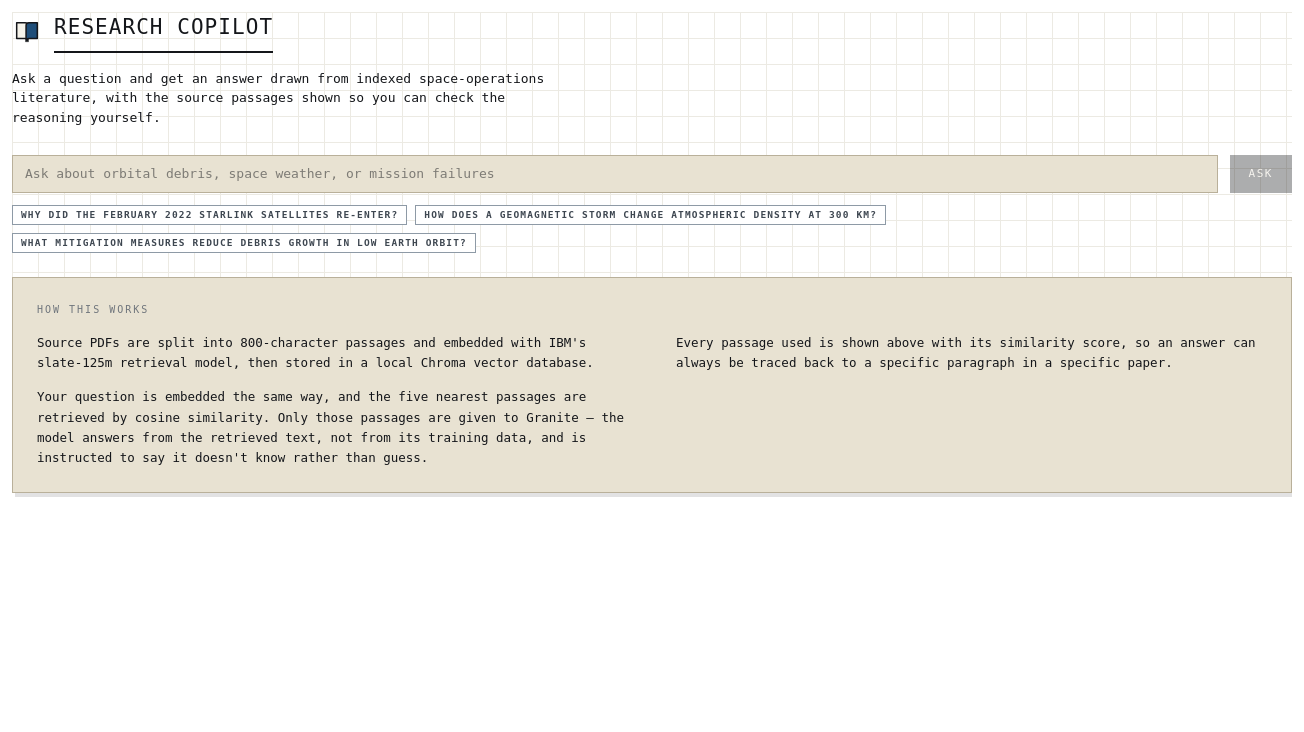
Test case: Research — error handling › shows an error message when the API responds with an error
Click the button "Why did the February 2022 Starlink satellites re-enter?".
click(210, 215)  # box [12,204,407,225]
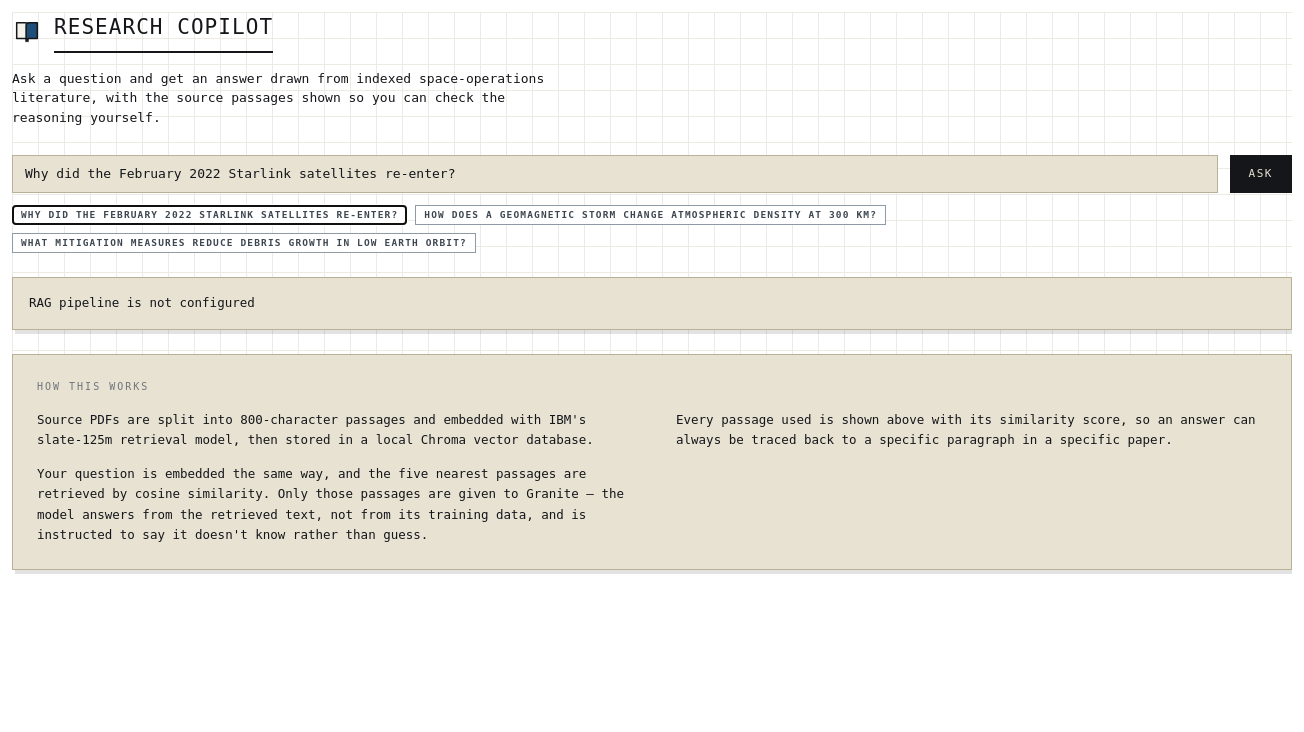
Check: the text "RAG pipeline is not configured" is shown, box [12,277,1292,330]
